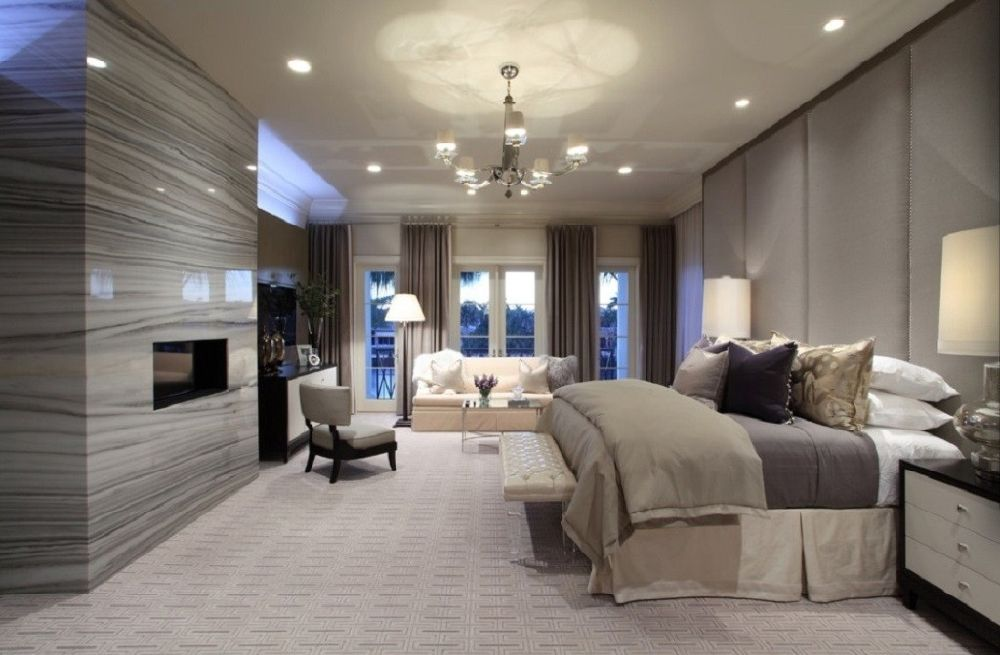床: (538, 385, 966, 605)
枕头: (670, 335, 875, 422), (417, 351, 571, 406)
灯: (430, 60, 589, 205), (938, 218, 999, 363), (376, 289, 423, 414), (700, 277, 750, 346), (172, 270, 210, 312), (813, 15, 848, 39), (281, 55, 314, 77), (357, 161, 382, 180), (85, 54, 110, 73), (608, 163, 634, 180), (728, 96, 749, 115)
